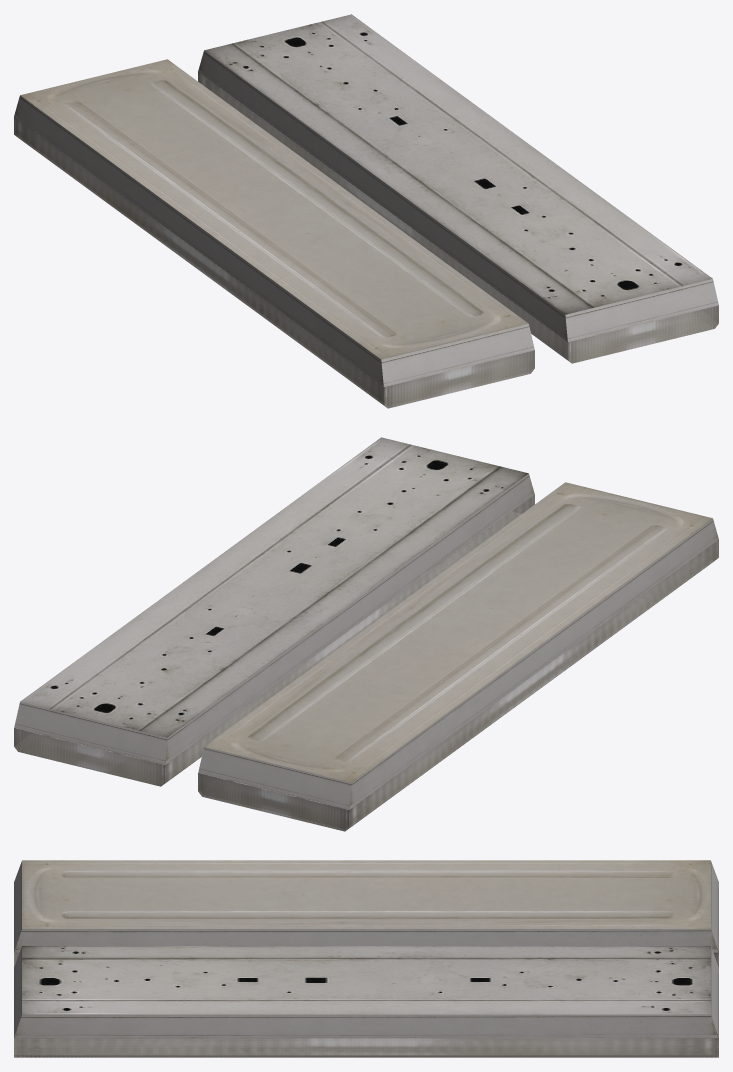
File: simple_fluorescent_tube_light.glb
3 renders of one model, top to bottom at view 1: azimuth 30°, elevation 25°; view 2: azimuth 150°, elevation 25°; view 3: azimuth 270°, elevation 25°, orthographic. The views are drawn at different scales.
Parts seen in each view (by area): view 1: Base.001, Base, CoverGlass, CoverGlass.001; view 2: Base.001, Base, CoverGlass, CoverGlass.001; view 3: Base.001, Base, CoverGlass.001.
Boxes of the visible parts, left/top/right/bottom form: Base.001: left=198, top=14, right=718, bottom=342; Base: left=14, top=59, right=534, bottom=386; CoverGlass: left=14, top=117, right=534, bottom=408; CoverGlass.001: left=198, top=72, right=718, bottom=363; Base.001: left=14, top=437, right=534, bottom=765; Base: left=198, top=482, right=718, bottom=809; CoverGlass: left=198, top=540, right=718, bottom=831; CoverGlass.001: left=14, top=495, right=534, bottom=786; Base.001: left=14, top=946, right=718, bottom=1038; Base: left=14, top=860, right=718, bottom=952; CoverGlass.001: left=14, top=1038, right=718, bottom=1057.
Bounding box in the file's own units: 1.58 × 0.2084 × 3.01.
3 materials, 2 textured.
